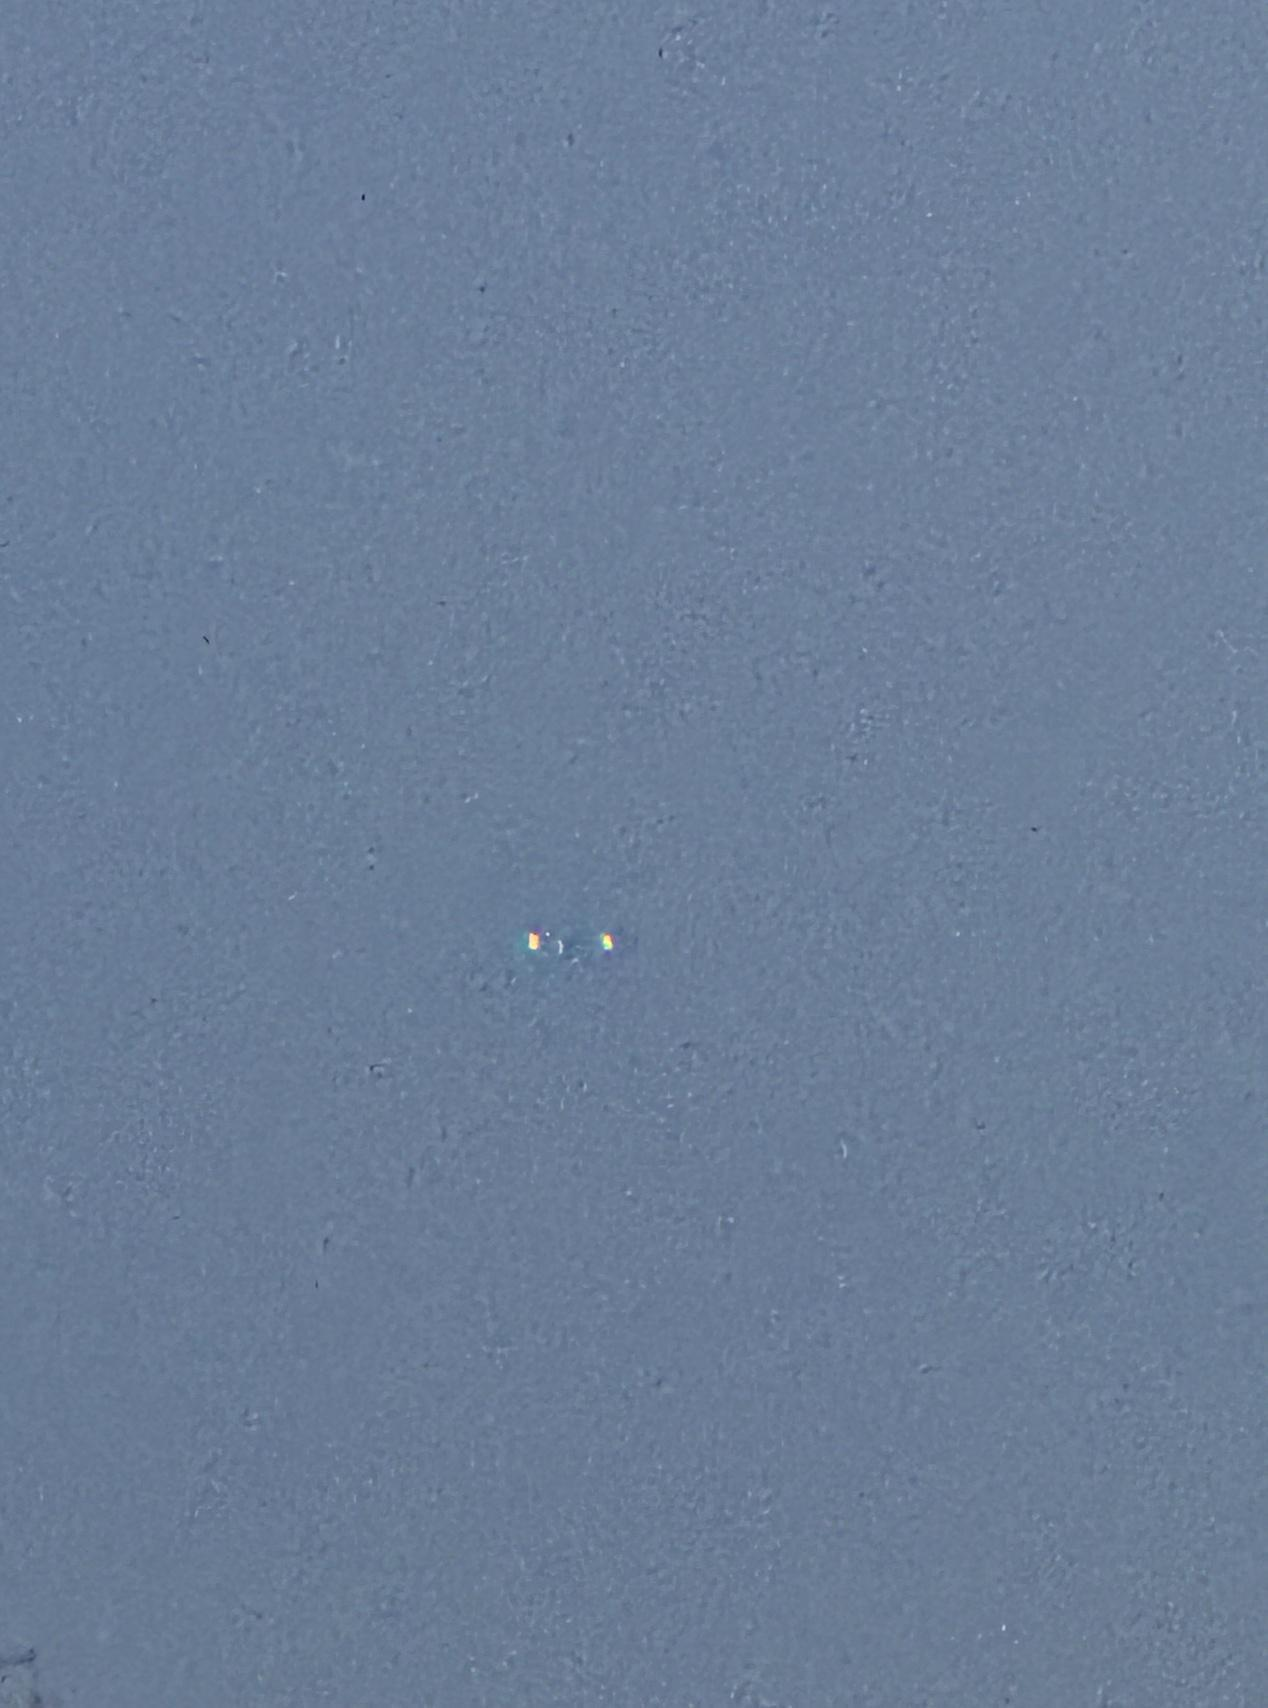Plane: (474, 907, 657, 985)
